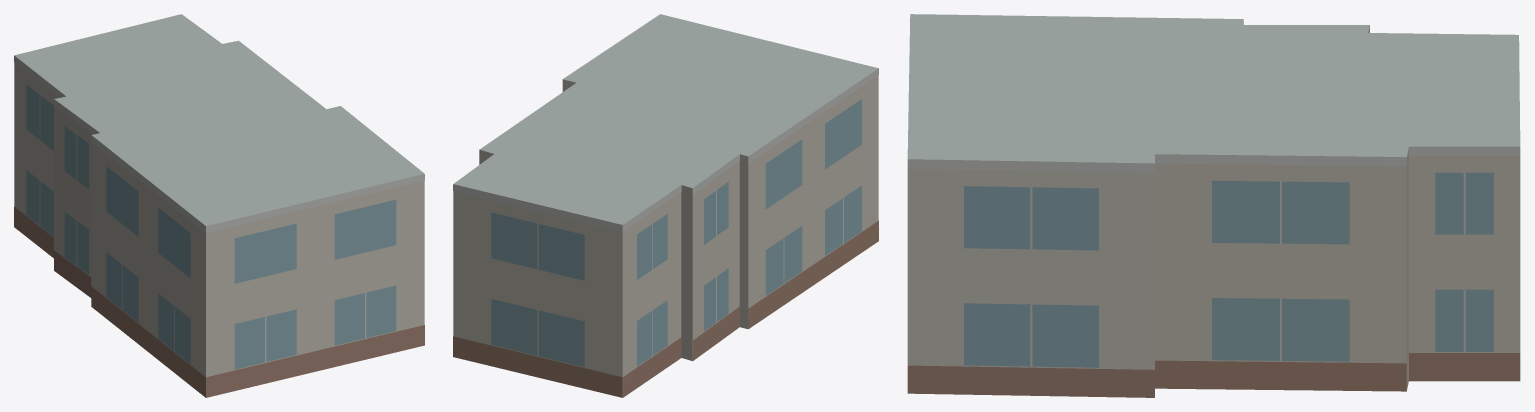
File: survey-upis-32594104.glb
The picture shows the model from 3 angles, left to right: view 1: azimuth 30°, elevation 25°; view 2: azimuth 150°, elevation 25°; view 3: azimuth 270°, elevation 25°; orthographic projection. The views are drawn at different scales.
Parts seen in each view (by area): view 1: survey-upis-32594104.tmp; view 2: survey-upis-32594104.tmp; view 3: survey-upis-32594104.tmp.
Boxes of the visible parts, box(x1,y1,x2,y2) form: survey-upis-32594104.tmp: box(14, 14, 424, 397); survey-upis-32594104.tmp: box(453, 14, 878, 397); survey-upis-32594104.tmp: box(907, 14, 1520, 397).
Size of the model in its own units: 8.35 by 6.1 by 14.46.
